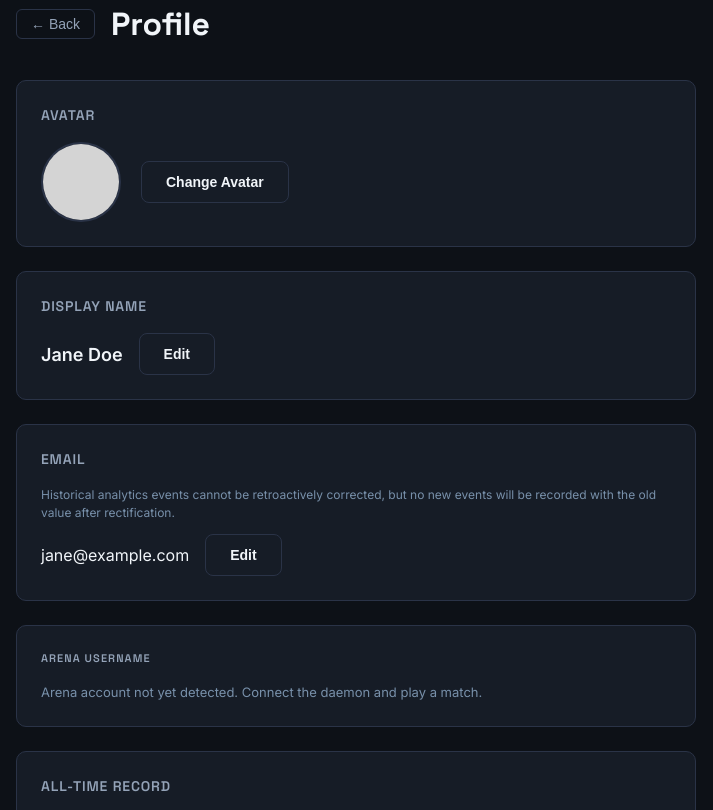
it: Profile — display name editing (AC2) › switches to edit form when Edit is clicked
Click the button with test id "profile-edit-name-button" at (177, 354), box [139,333,215,375]
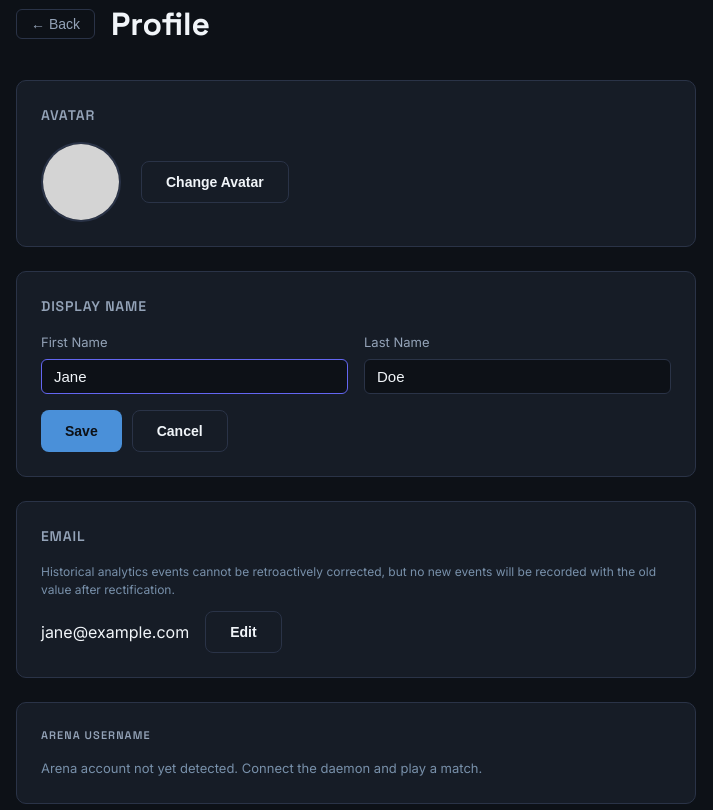
Check: the element with test id "profile-name-form" is shown, box [41,333,671,452]
